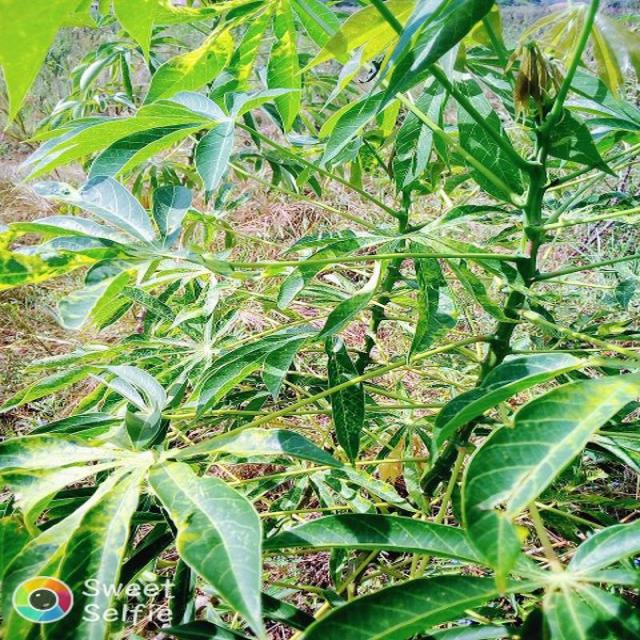cassava leaf: (0, 0, 638, 638), (458, 370, 638, 583), (146, 458, 264, 636)
